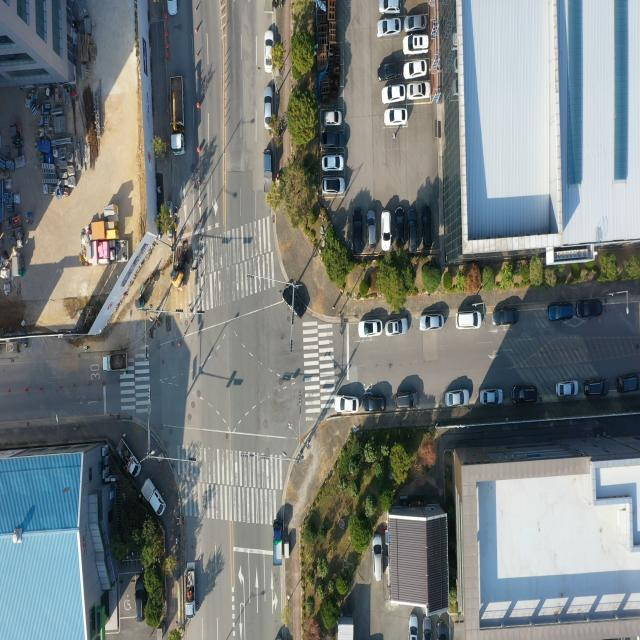car: (282, 286, 306, 314), (372, 534, 383, 584), (351, 210, 364, 252), (614, 373, 640, 394), (421, 204, 433, 248), (547, 303, 575, 321), (455, 312, 481, 330), (577, 302, 603, 320), (445, 388, 471, 406), (492, 310, 518, 328), (377, 19, 401, 38), (394, 205, 404, 249), (408, 206, 418, 250), (383, 86, 406, 105), (358, 320, 382, 338), (513, 386, 538, 403), (408, 80, 430, 99), (367, 210, 378, 248), (364, 393, 386, 412), (480, 388, 504, 405), (419, 316, 444, 332), (322, 131, 343, 150), (405, 61, 427, 79), (385, 108, 407, 126), (386, 318, 408, 336), (365, 317, 387, 335), (406, 34, 429, 51), (324, 177, 345, 195), (336, 395, 358, 412), (476, 391, 499, 407), (266, 32, 275, 72), (585, 379, 606, 396), (556, 381, 578, 397), (378, 64, 400, 80), (382, 212, 391, 250), (322, 156, 342, 173), (406, 14, 426, 30), (398, 395, 418, 411), (380, 0, 401, 14), (421, 615, 432, 640), (265, 88, 273, 122), (324, 110, 340, 126), (435, 621, 448, 640), (166, 0, 178, 18), (410, 617, 419, 640)
medium_truck: (170, 74, 186, 154)
small_truck: (116, 434, 140, 478), (141, 478, 165, 516), (183, 560, 197, 618), (263, 144, 273, 196), (273, 517, 283, 568), (102, 355, 126, 373)
